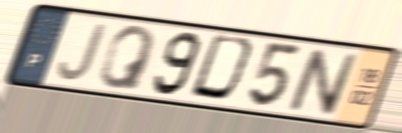5: (247, 39, 307, 111)
9: (152, 30, 205, 97)
D: (186, 31, 260, 106)
J: (56, 22, 110, 84)
N: (285, 45, 360, 118)
Q: (96, 24, 158, 93)
